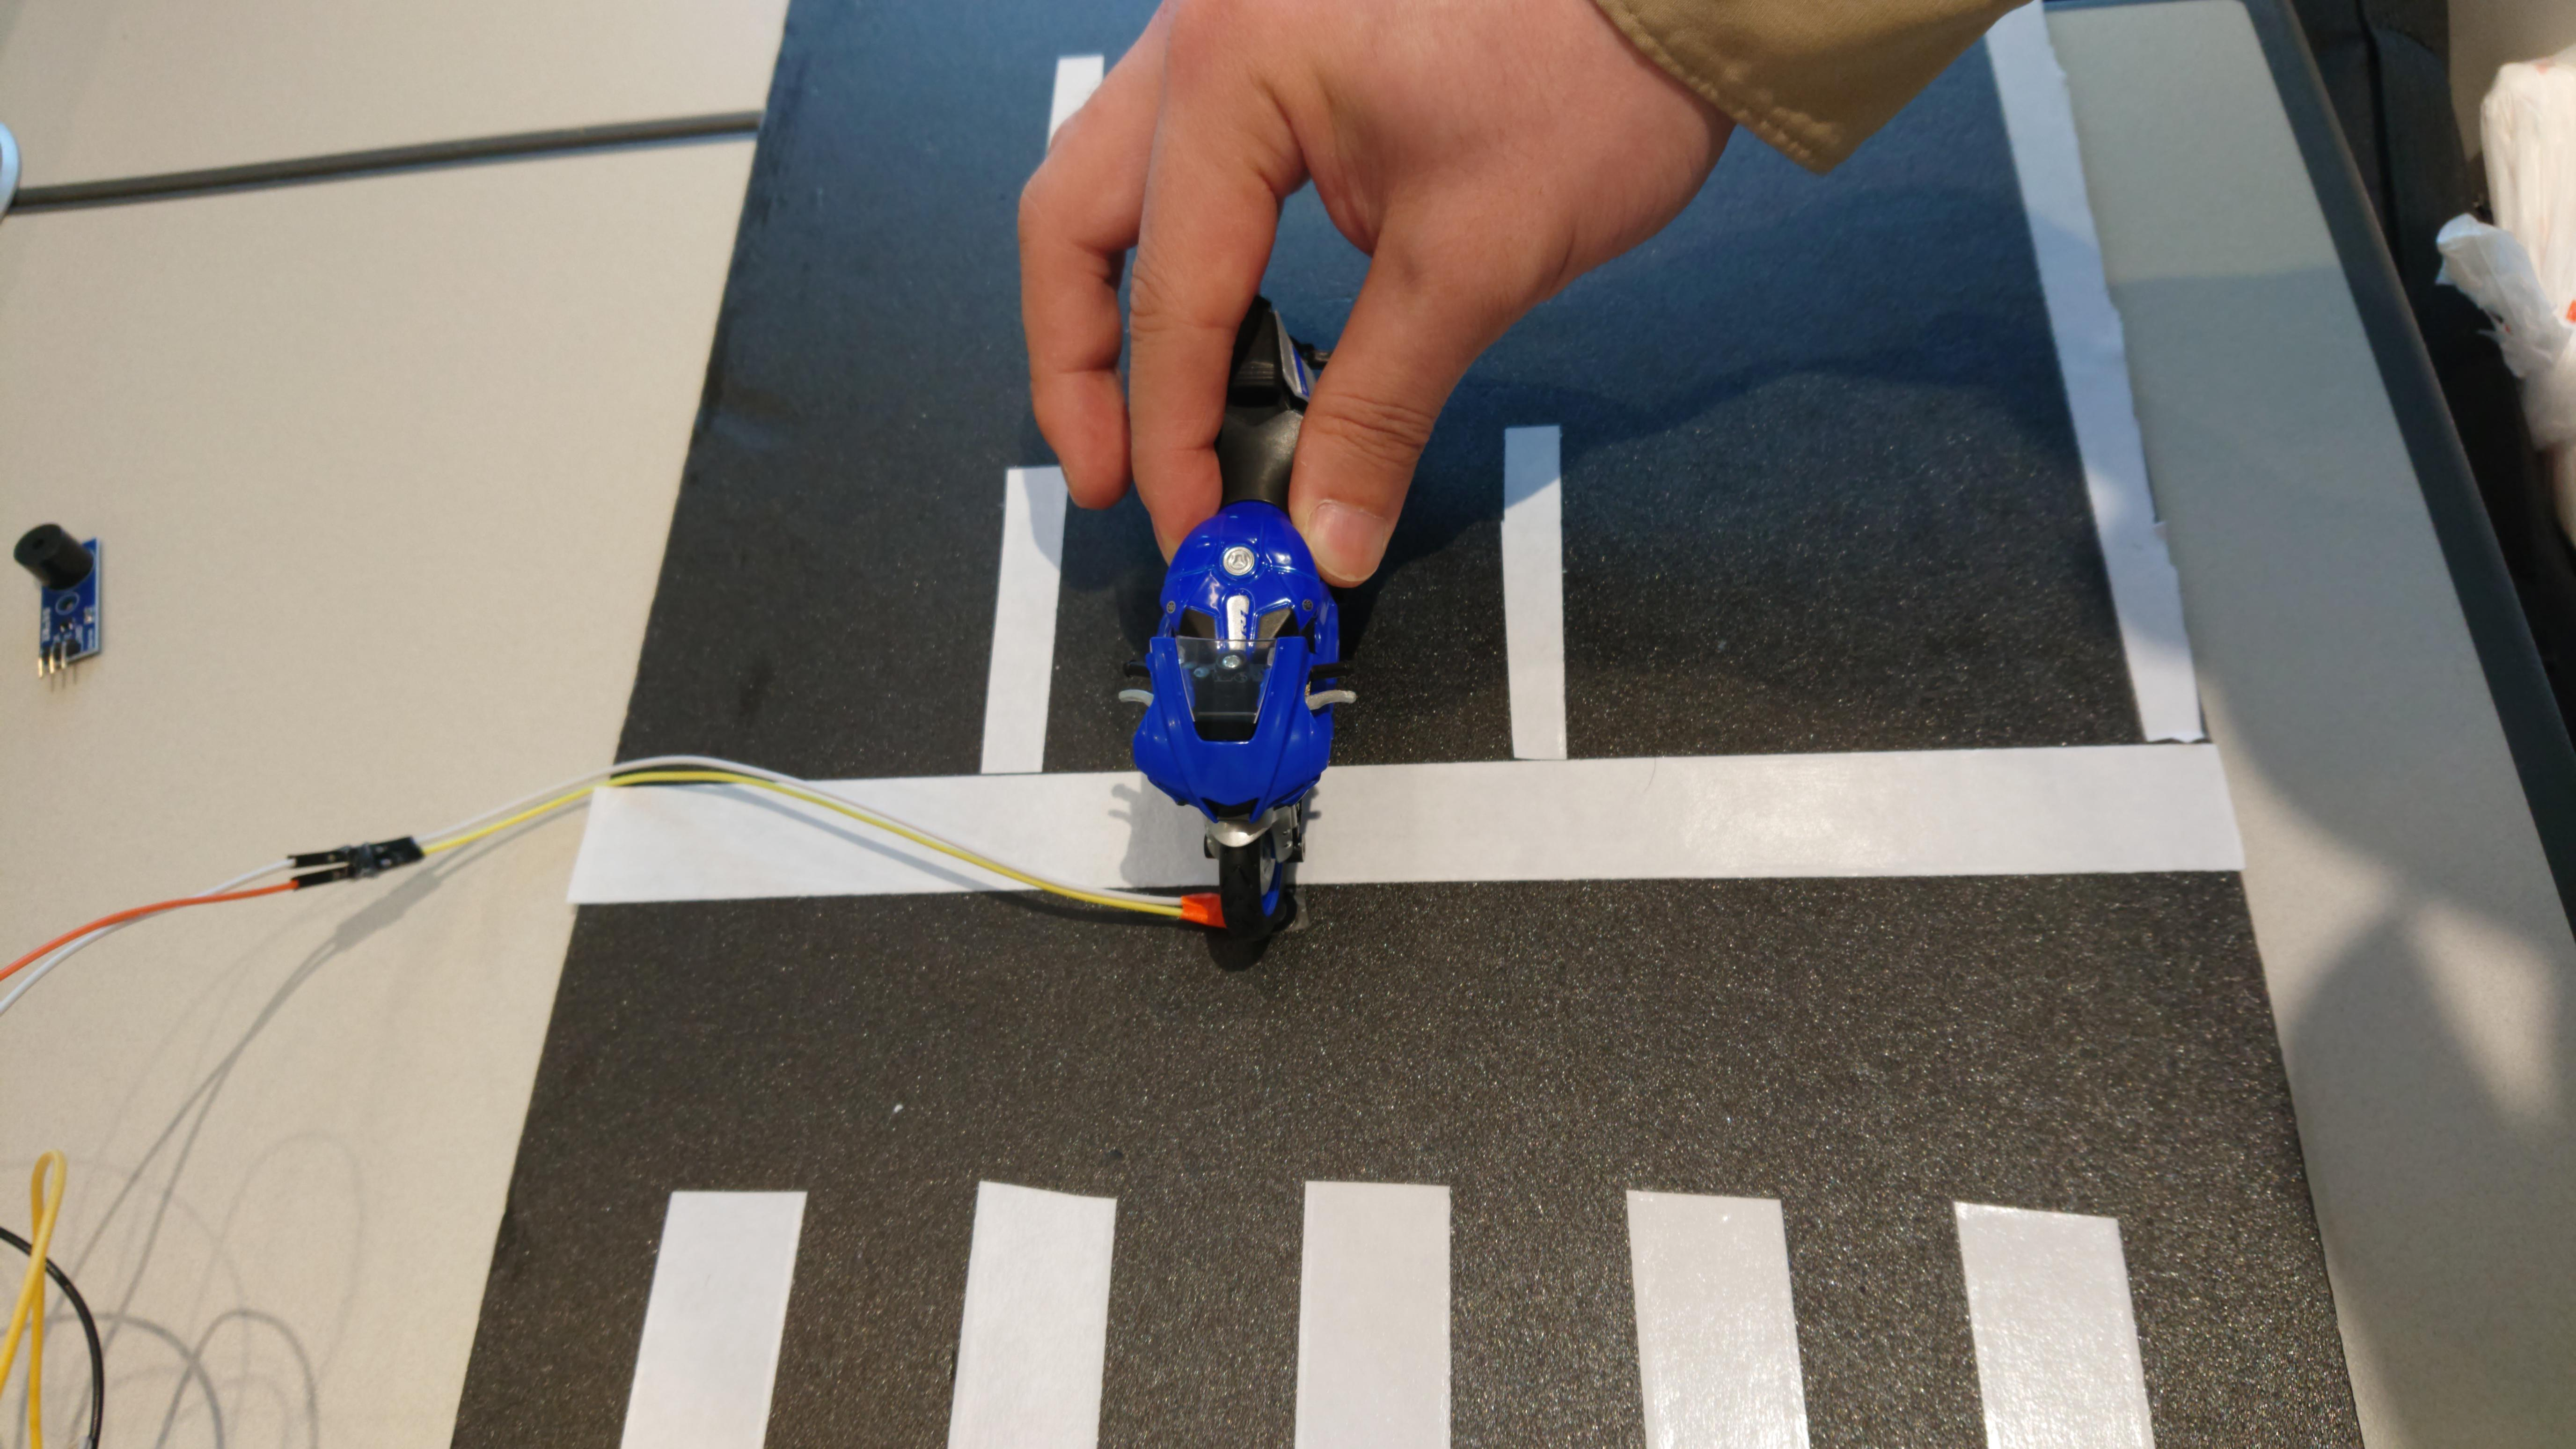Motorcycle: (1104, 285, 1380, 957)
